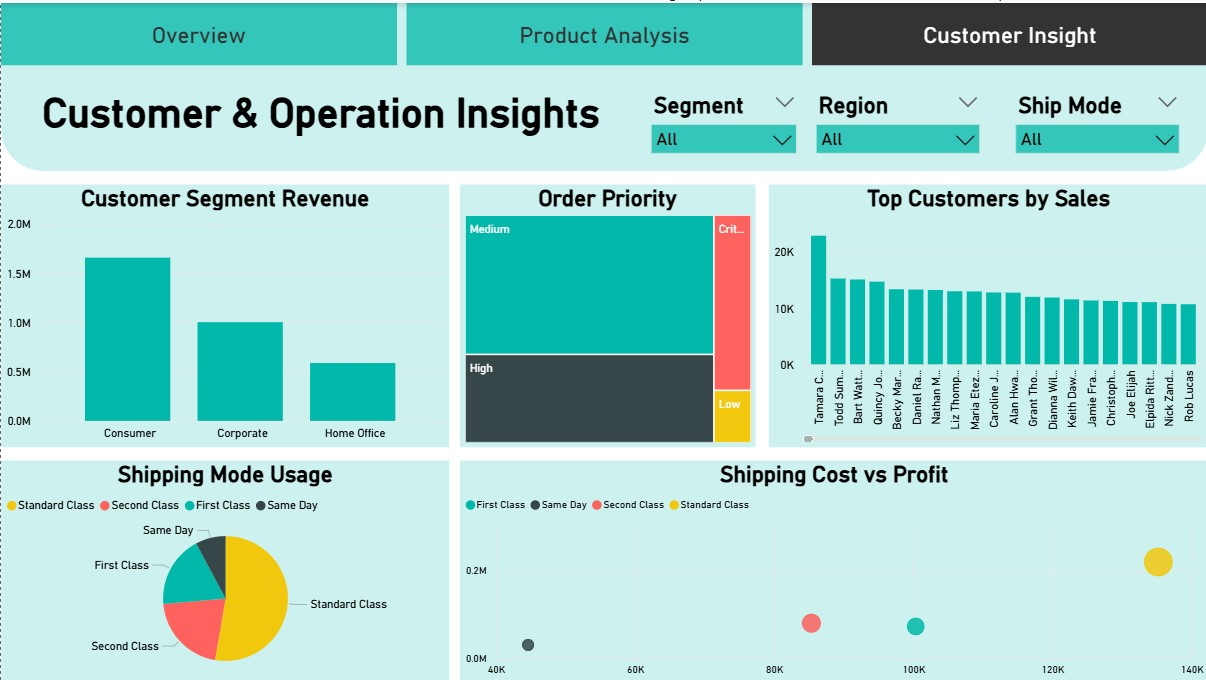

The dashboard page shown, as its layout file describes it:
{"tool":"powerbi","page":{"name":"Customer Insight","canvas":[1280,720],"ordinal":2},"visuals":[{"type":"shape","box":[0,0,1280.4,178.1],"z":0},{"type":"textbox","box":[0,85.9,679.2,65.2],"z":1000},{"type":"pageNavigator","box":[0,0,1280.4,66.8],"z":2000},{"type":"columnChart","title":"Customer Segment Revenue","fields":{"Category":["SuperStoreOrders - SuperStoreOrders.segment"],"Y":["SuperStoreOrders - SuperStoreOrders.Total Sales"]},"box":[0,192.5,475.6,278.4],"z":3000},{"type":"pieChart","title":"Shipping Mode Usage","fields":{"Category":["SuperStoreOrders - SuperStoreOrders.ship_mode"],"Y":["CountNonNull(SuperStoreOrders - SuperStoreOrders.order_id)"]},"box":[0,485.1,475.6,235.4],"z":4000},{"type":"treemap","title":"Order Priority","fields":{"Group":["SuperStoreOrders - SuperStoreOrders.order_priority"],"Values":["CountNonNull(SuperStoreOrders - SuperStoreOrders.order_id)"]},"box":[486.7,192.5,313.4,278.4],"z":5000},{"type":"scatterChart","title":"Shipping Cost vs Profit","fields":{"X":["Sum(SuperStoreOrders - SuperStoreOrders.shipping_cost)"],"Y":["SuperStoreOrders - SuperStoreOrders.Total Profit"],"Size":["SuperStoreOrders - SuperStoreOrders.Total Sales"],"Series":["SuperStoreOrders - SuperStoreOrders.ship_mode"]},"box":[486.7,485.1,793.7,235.4],"z":6000},{"type":"columnChart","title":"Top Customers by Sales","fields":{"Category":["SuperStoreOrders - SuperStoreOrders.customer_name"],"Y":["SuperStoreOrders - SuperStoreOrders.Total Sales"]},"box":[814.4,192.5,466,278.4],"z":7000},{"type":"slicer","fields":{"Values":["SuperStoreOrders - SuperStoreOrders.segment"]},"box":[679.2,89.1,175,299],"z":8000},{"type":"slicer","fields":{"Values":["SuperStoreOrders - SuperStoreOrders.region"]},"box":[854.2,89.1,194.1,299],"z":9000},{"type":"slicer","fields":{"Values":["SuperStoreOrders - SuperStoreOrders.ship_mode"]},"box":[1065.7,89.1,194.1,299],"z":10000}]}

Visuals, with their boxes in screenshot pixels (x1, y1, x2, y2), scaled from the page's 1280x720 canvas onto the 1206x680 screenshot:
shape: box=[0, 0, 1205, 168]
textbox: box=[0, 81, 640, 143]
pageNavigator: box=[0, 0, 1205, 63]
"Customer Segment Revenue" columnChart: box=[0, 182, 448, 445]
"Shipping Mode Usage" pieChart: box=[0, 458, 448, 679]
"Order Priority" treemap: box=[459, 182, 754, 445]
"Shipping Cost vs Profit" scatterChart: box=[459, 458, 1205, 679]
"Top Customers by Sales" columnChart: box=[767, 182, 1205, 445]
slicer - SuperStoreOrders - SuperStoreOrders.segment: box=[640, 84, 805, 367]
slicer - SuperStoreOrders - SuperStoreOrders.region: box=[805, 84, 988, 367]
slicer - SuperStoreOrders - SuperStoreOrders.ship_mode: box=[1004, 84, 1187, 367]
